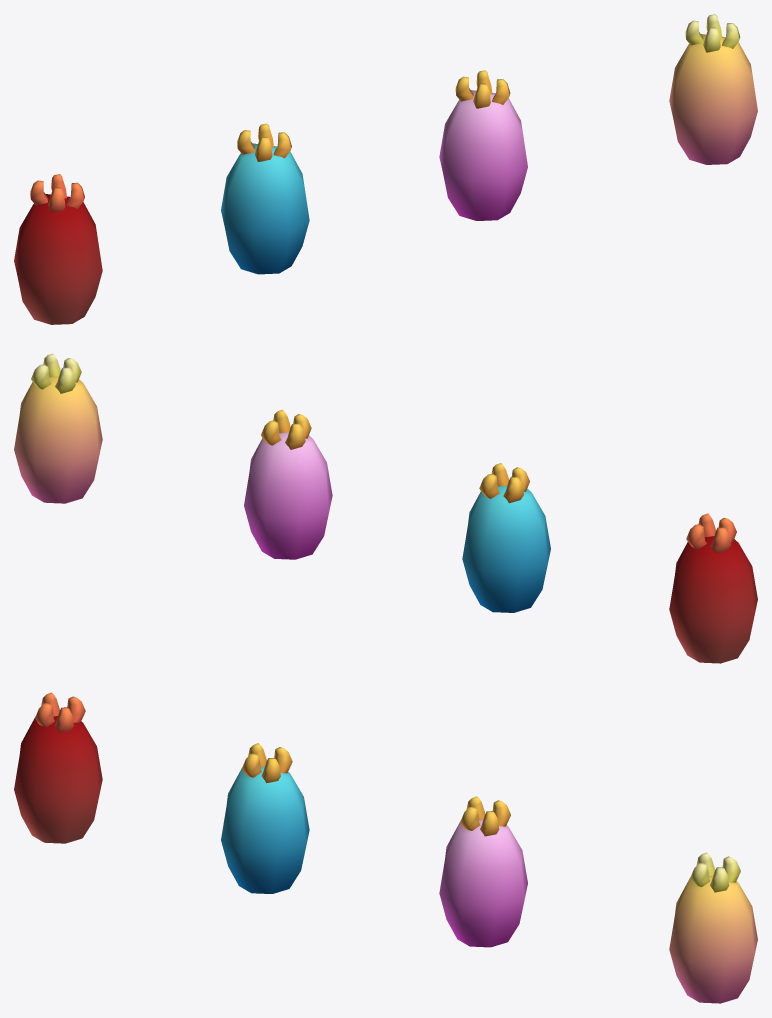
Rendered from CoralReefSet4.fbx.
3 views of the same model, one above another, from view 1: azimuth 30°, elevation 25°; view 2: azimuth 150°, elevation 25°; view 3: azimuth 330°, elevation 25° (orthographic).
Parts seen in each view (by area): view 1: D_CoralReef, D_CoralReef.001, D_CoralReef.003, D_CoralReef.002; view 2: D_CoralReef.002, D_CoralReef, D_CoralReef.003, D_CoralReef.001; view 3: D_CoralReef, D_CoralReef.003, D_CoralReef.002, D_CoralReef.001.
Boxes of the visible parts, <box> form: D_CoralReef: <box>14,174,102,324</box>; D_CoralReef.001: <box>221,123,309,274</box>; D_CoralReef.003: <box>669,14,757,164</box>; D_CoralReef.002: <box>439,70,527,220</box>; D_CoralReef.002: <box>244,409,332,559</box>; D_CoralReef: <box>669,513,757,663</box>; D_CoralReef.003: <box>14,353,102,503</box>; D_CoralReef.001: <box>462,463,550,612</box>; D_CoralReef: <box>14,692,102,843</box>; D_CoralReef.003: <box>669,852,757,1003</box>; D_CoralReef.002: <box>439,796,527,947</box>; D_CoralReef.001: <box>221,743,309,893</box>.
Bounding box in the file's own units: 641 × 109 × 71.01.
Materials: 1 (1 with a texture image).
